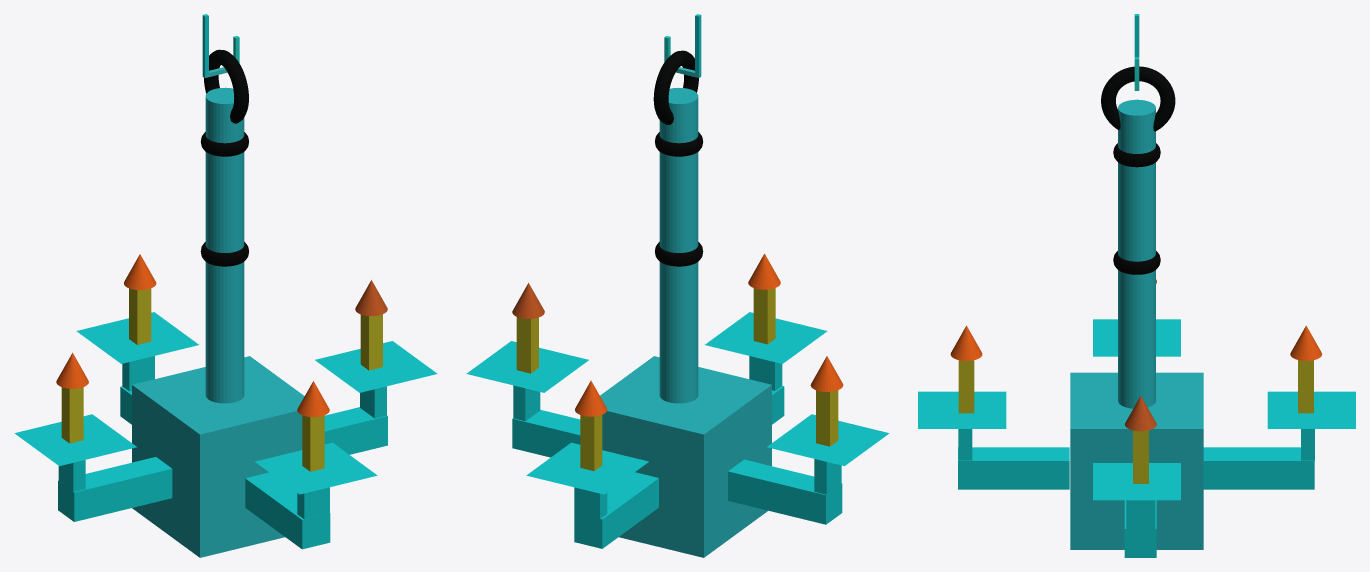
File: candelabro2.0.fbx
3 views of the same model, side by side, from view 1: azimuth 30°, elevation 25°; view 2: azimuth 150°, elevation 25°; view 3: azimuth 270°, elevation 25° (orthographic). The views are drawn at different scales.
Parts seen in each view (by area): view 1: Cube.007, Cube.004, Cube.002, Cube.003, Cube.005, Cone.002, Cone.003, Cone, Cone.001; view 2: Cube.007, Cube.003, Cube.002, Cube.004, Cube.005, Cone.001, Cone.003, Cone, Cone.002; view 3: Cube.007, Cube.003, Cube.002, Cube.005, Cone, Cone.001, Cone.003.
Part boxes in pixels (x1,y1,x2,y2): Cube.007: (14,14,437,557); Cube.004: (61,387,83,443); Cube.002: (129,288,151,344); Cube.003: (302,415,324,471); Cube.005: (360,314,382,370); Cone.002: (56,352,88,388); Cone.003: (124,254,156,290); Cone: (355,280,387,316); Cone.001: (297,381,329,417); Cube.007: (466,14,889,557); Cube.003: (753,288,775,344); Cube.002: (580,415,602,471); Cube.004: (816,390,838,446); Cube.005: (516,317,538,373); Cone.001: (748,253,780,289); Cone.003: (575,380,607,416); Cone: (512,283,544,318); Cone.002: (810,356,843,391); Cube.007: (918,14,1355,557); Cube.003: (958,360,974,413); Cube.002: (1298,360,1313,413); Cube.005: (1133,430,1148,483); Cone: (1125,396,1156,431); Cone.001: (950,325,982,360); Cone.003: (1290,325,1322,360).
Size of the model in its own units: 361 by 463 by 369.
